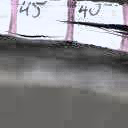crackTip: (54, 15, 128, 40)
